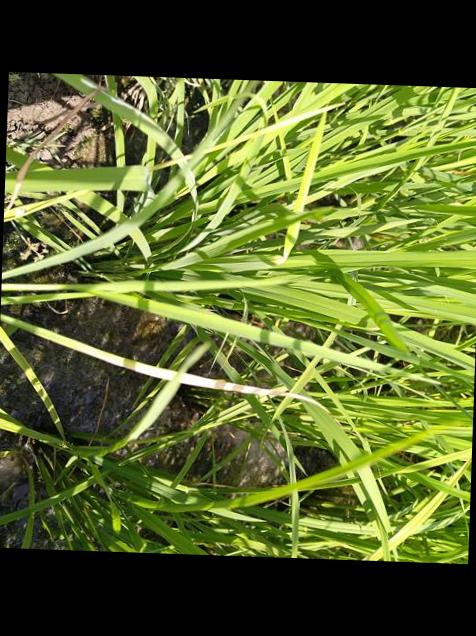Leaf Blight: (2, 318, 326, 411)
